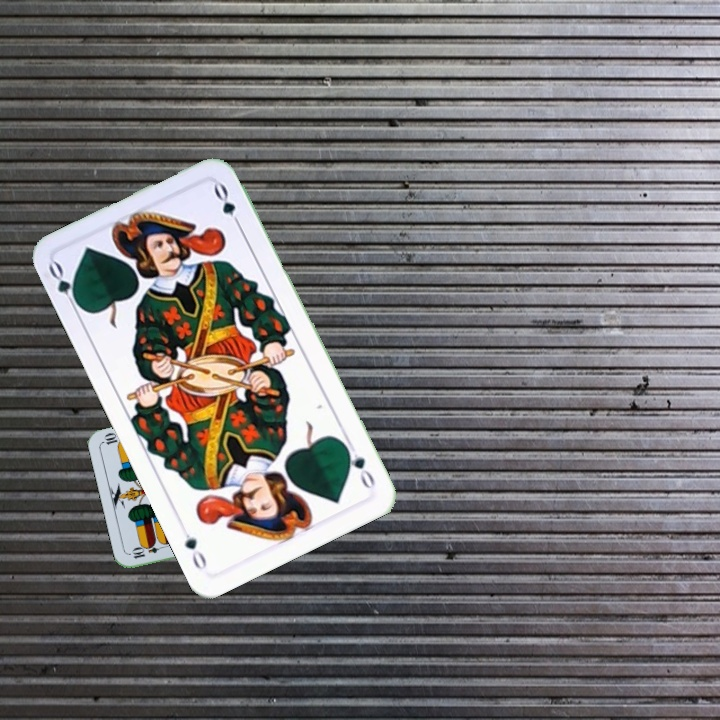E10: (128, 540, 168, 561)
GO: (44, 258, 84, 314), (340, 437, 378, 493)
